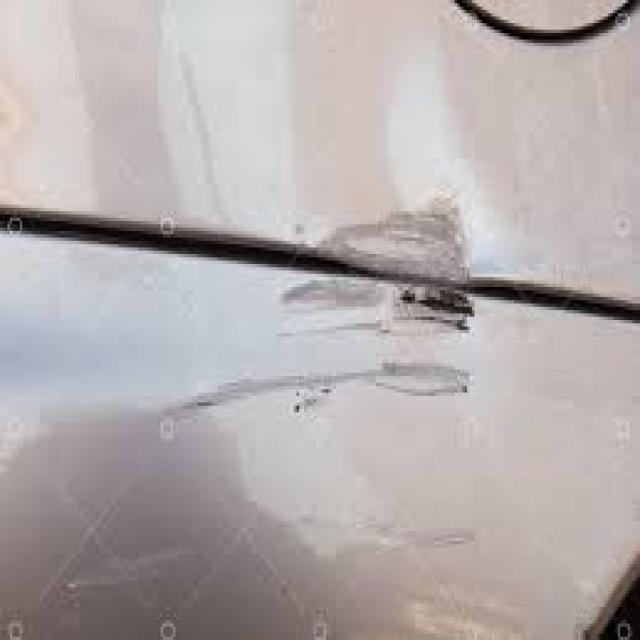dent-or-scratch: (165, 188, 480, 434)
